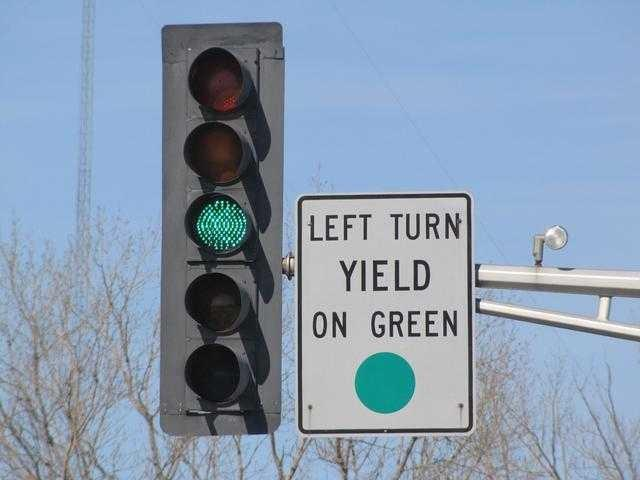green: (160, 19, 283, 441), (183, 188, 257, 258)
